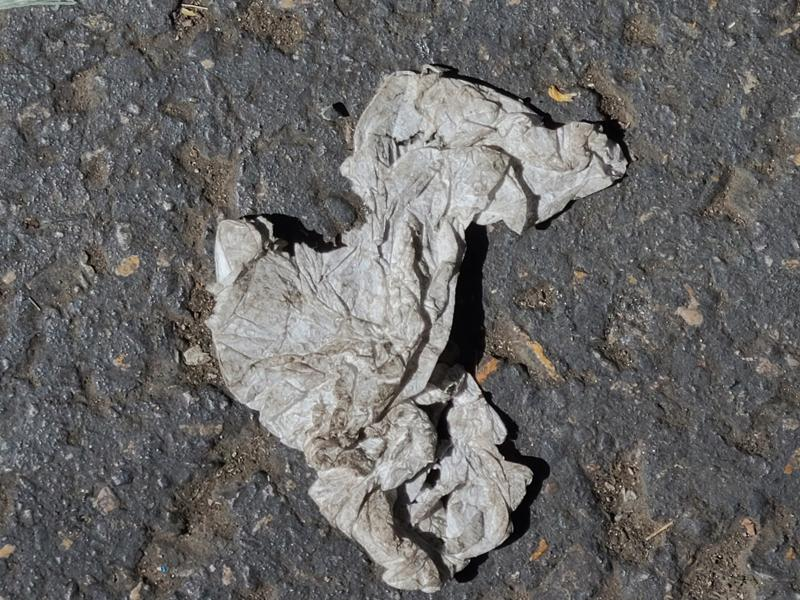papel: (207, 71, 629, 594)
